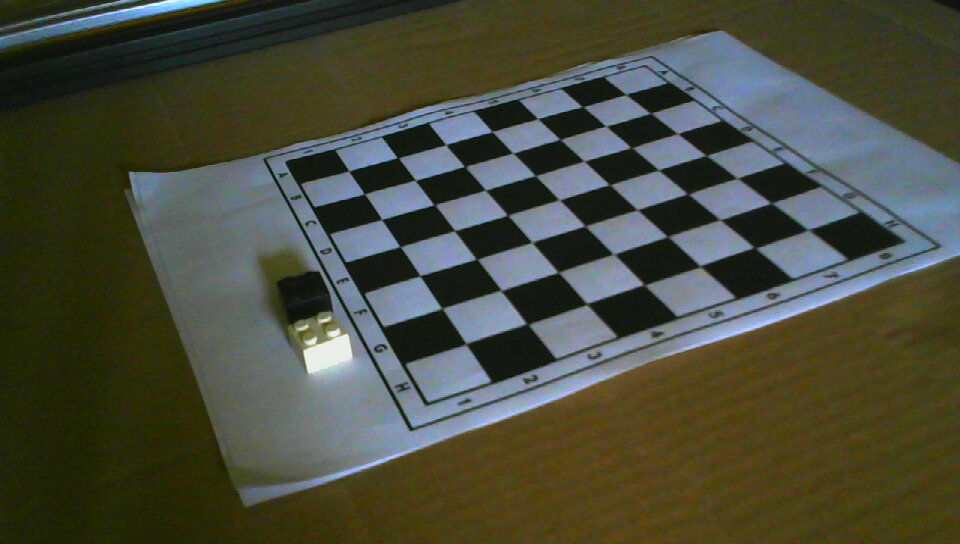bp: (274, 269, 332, 317)
wp: (285, 313, 351, 374)
